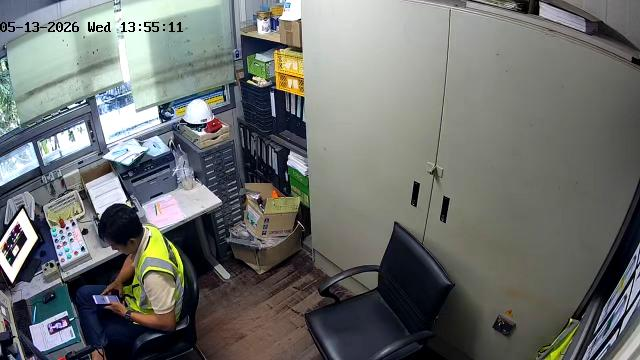Head: (98, 204, 143, 254)
People: (76, 204, 184, 359)
Phone: (48, 316, 70, 334), (93, 295, 119, 305)
